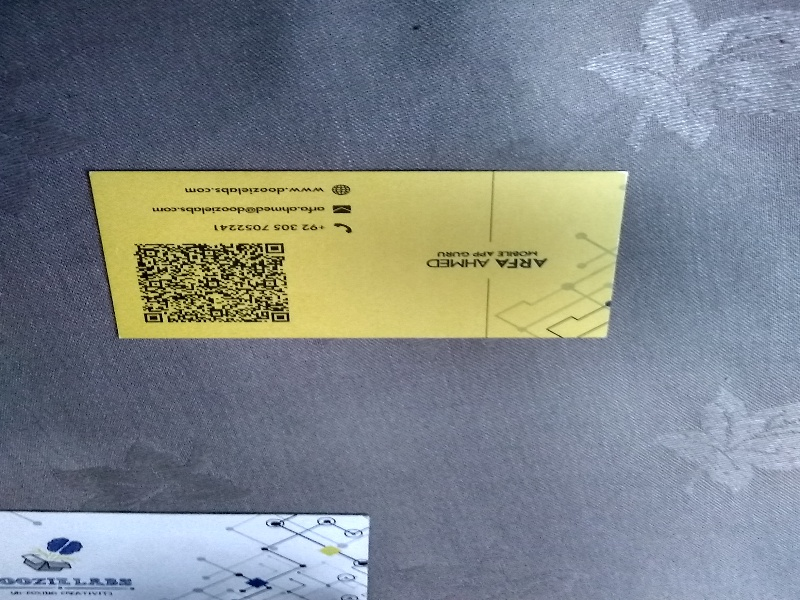front: (82, 165, 631, 346)
